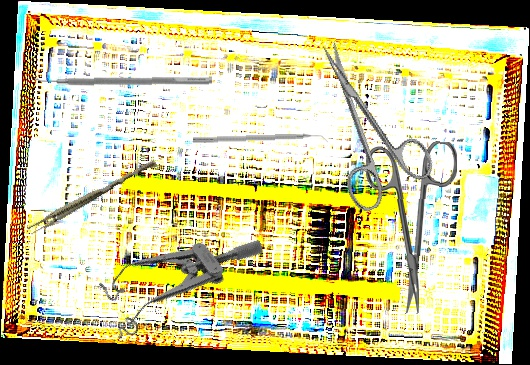Chopper: (192, 132, 329, 151)
Iris Scissors: (290, 24, 441, 216), (363, 140, 458, 315)
Spatula Surgical: (33, 68, 213, 88)
Speculum: (84, 190, 267, 354)
Tissue Forceps: (26, 154, 158, 239)
